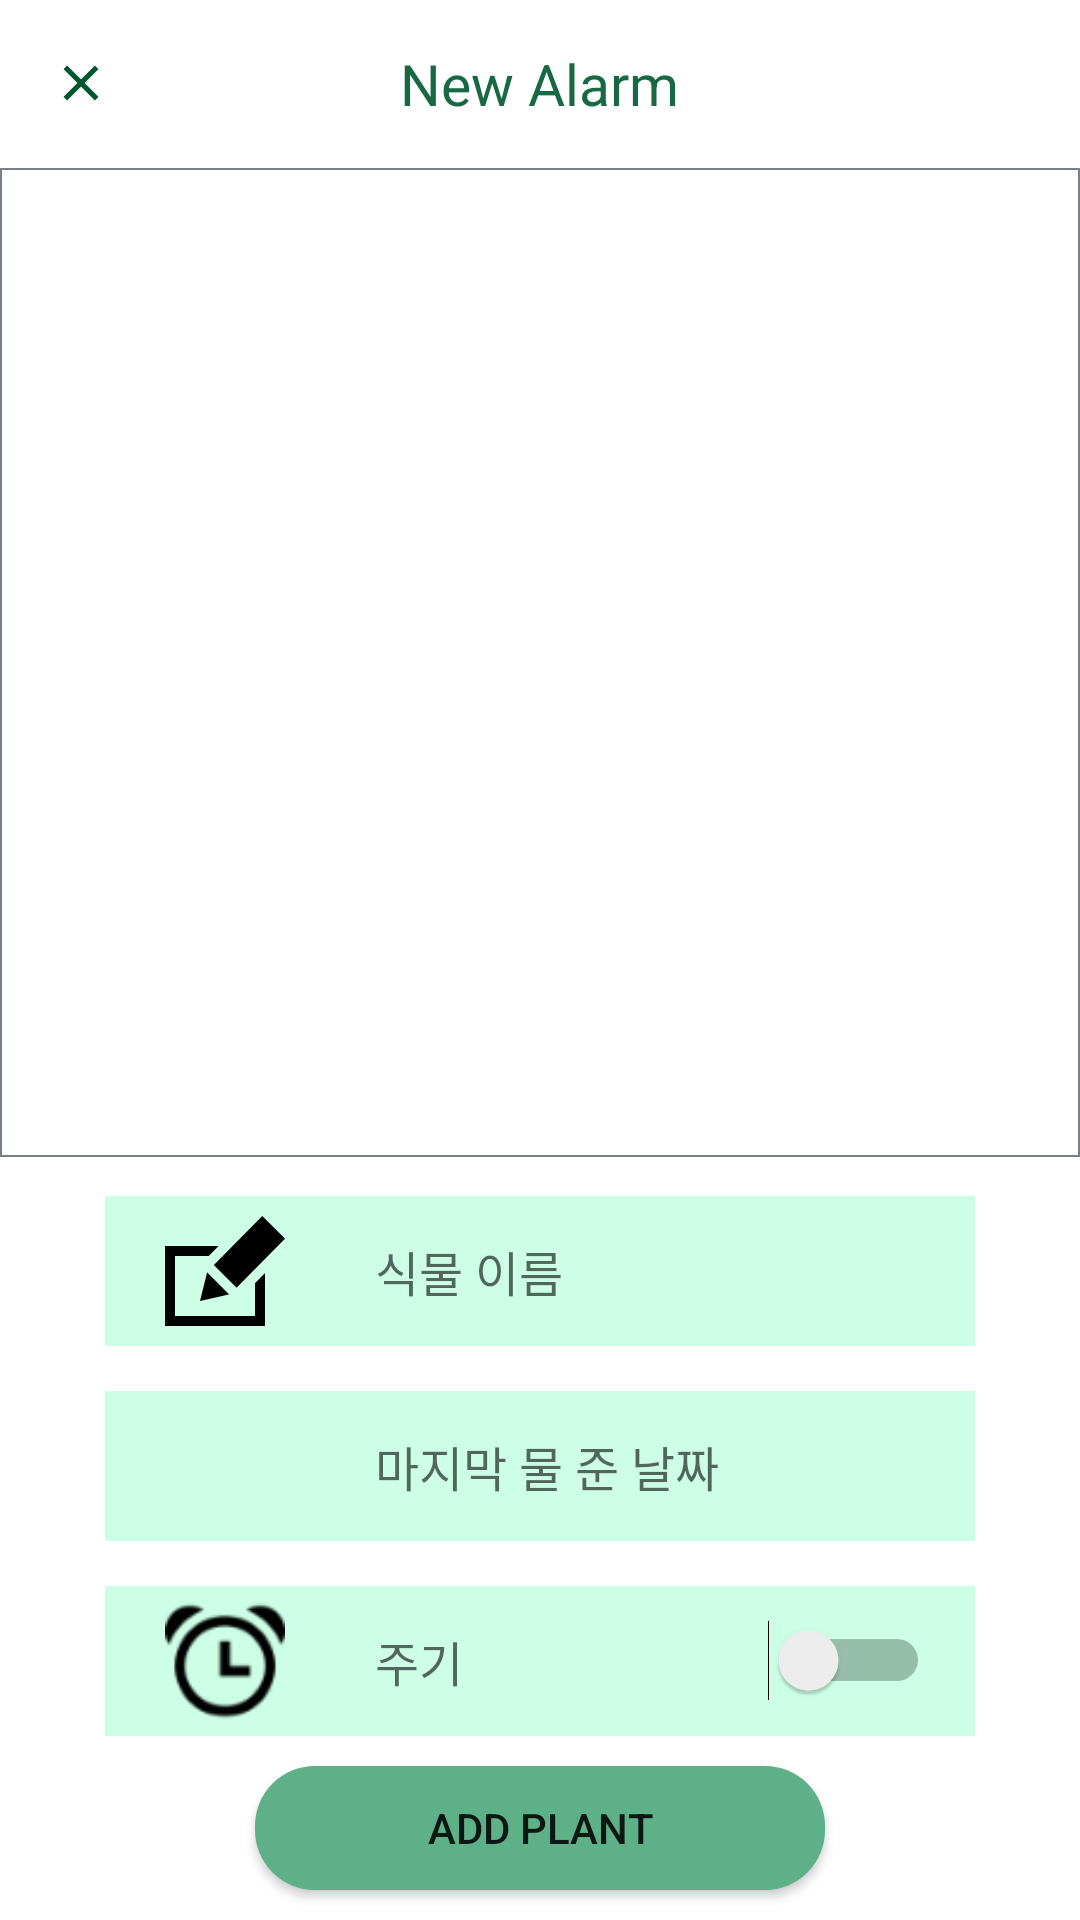

Locate icon controls on the screen. Image size 1080px×1920px, boxes as (x1, y1, x2, y2).
alarm: (165, 1604, 285, 1718)
close: (63, 65, 99, 101)
edit: (165, 1216, 285, 1326)
